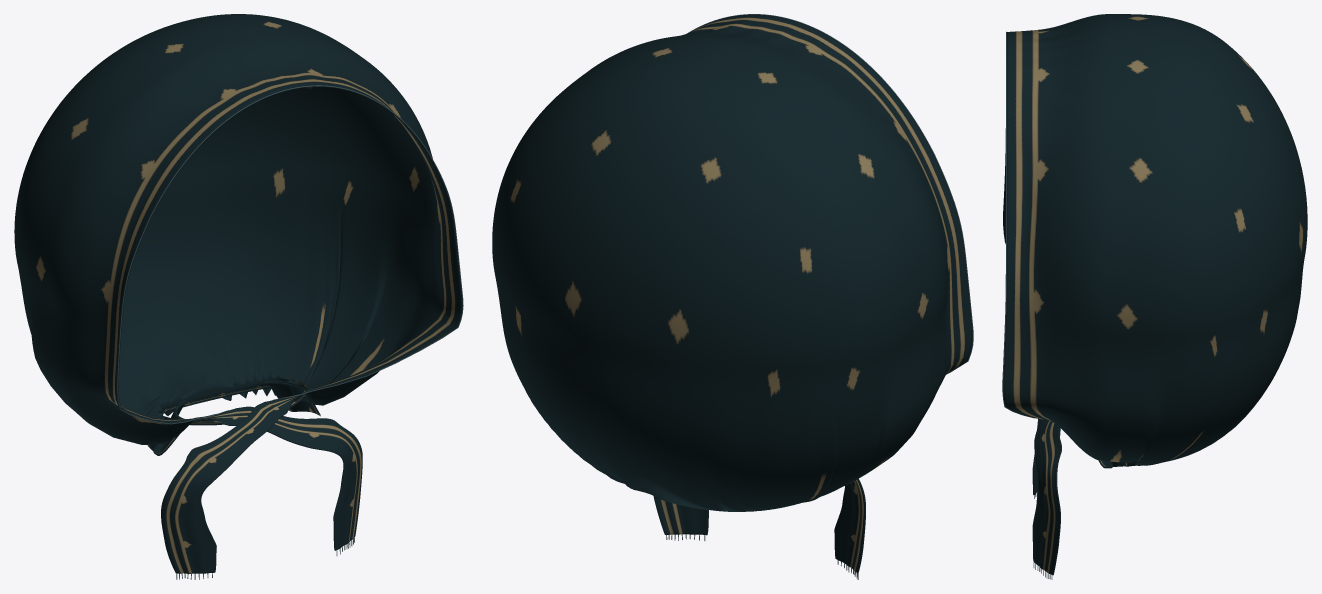
The model's file is Masculine-buzz-tshirt-pashmina250-headgear.glb.
3 renders of one model, left to right at view 1: azimuth 30°, elevation 25°; view 2: azimuth 150°, elevation 25°; view 3: azimuth 270°, elevation 25°, orthographic. The views are drawn at different scales.
Parts seen in each view (by area): view 1: 226 headgear / Headwear / continuous woven pashmina239, 226 headgear / Headwear / face edge239; view 2: 226 headgear / Headwear / continuous woven pashmina239, 226 headgear / Headwear / face edge239; view 3: 226 headgear / Headwear / continuous woven pashmina239, 226 headgear / Headwear / face edge239.
Part boxes in pixels (left/top/right/bottom): 226 headgear / Headwear / continuous woven pashmina239: left=14, top=14, right=462, bottom=573; 226 headgear / Headwear / face edge239: left=117, top=85, right=463, bottom=424; 226 headgear / Headwear / continuous woven pashmina239: left=492, top=14, right=972, bottom=573; 226 headgear / Headwear / face edge239: left=687, top=14, right=973, bottom=373; 226 headgear / Headwear / continuous woven pashmina239: left=1003, top=14, right=1307, bottom=575; 226 headgear / Headwear / face edge239: left=1002, top=31, right=1039, bottom=418.
Bounding box in the file's own units: 1.07 × 1.37 × 0.7558.
3 materials, 1 textured.
